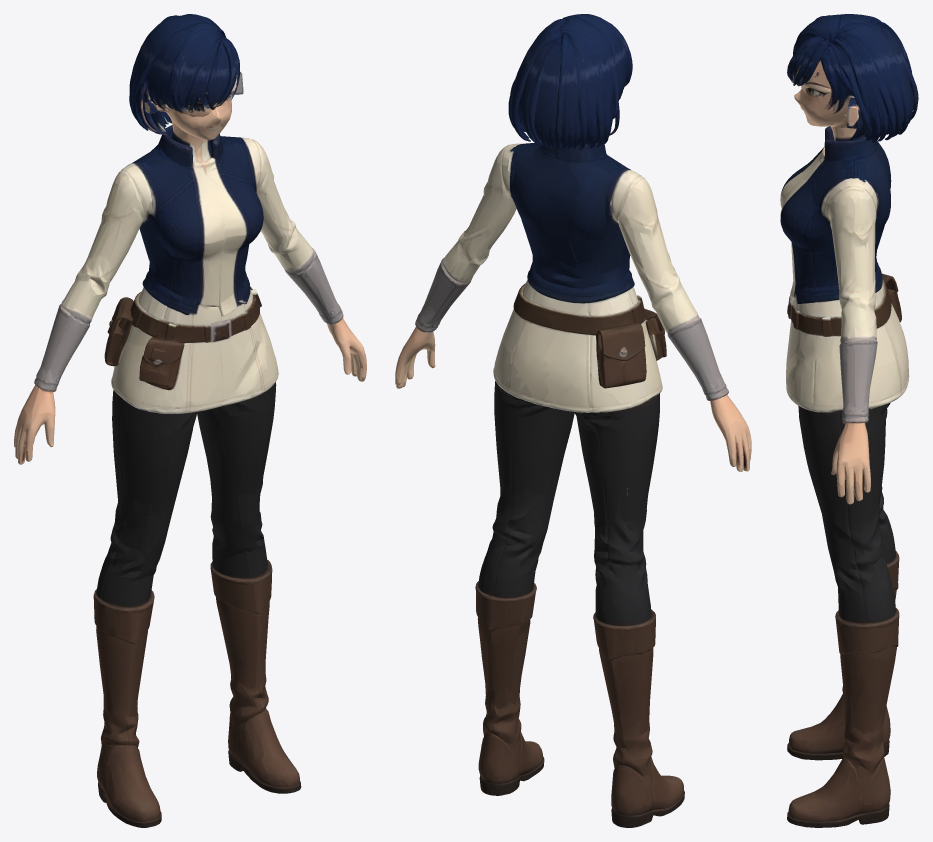
Rendered from chr_001_anime_espadachim_v001.glb.
3 renders of one model, left to right at view 1: azimuth 30°, elevation 25°; view 2: azimuth 150°, elevation 25°; view 3: azimuth 270°, elevation 25°, orthographic.
Size of the model in its own units: 0.8958 by 1.9 by 0.3101.
Materials: 1 (1 with a texture image).
